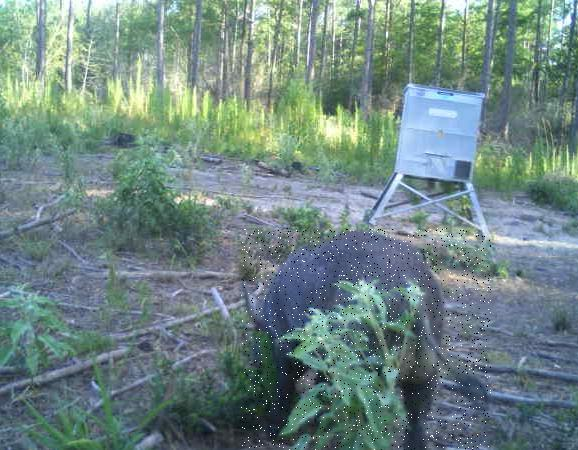Hog: (241, 228, 491, 450)
